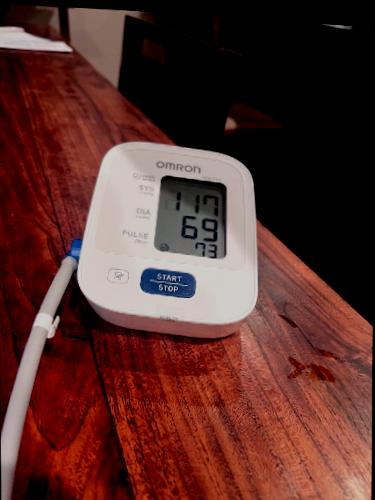bpm: (152, 174, 235, 263)
